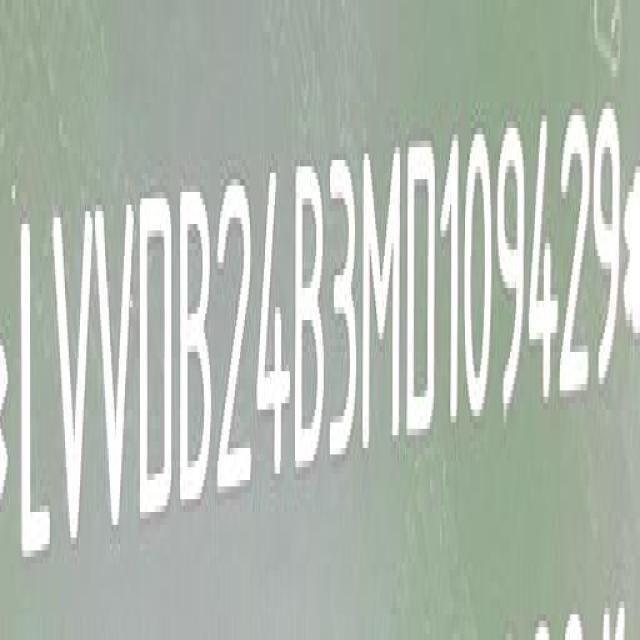0: (463, 123, 493, 450)
1: (438, 119, 466, 458)
2: (214, 180, 255, 512), (559, 107, 592, 405)
3: (327, 154, 359, 467)
4: (256, 168, 292, 484), (527, 92, 560, 420)
9: (494, 114, 527, 443), (591, 93, 624, 410)
B: (291, 140, 326, 483), (178, 183, 212, 512)
D: (136, 192, 175, 519), (405, 130, 440, 460)
L: (17, 213, 52, 569)
M: (361, 130, 404, 458)
V: (52, 208, 94, 560), (92, 194, 134, 534)
